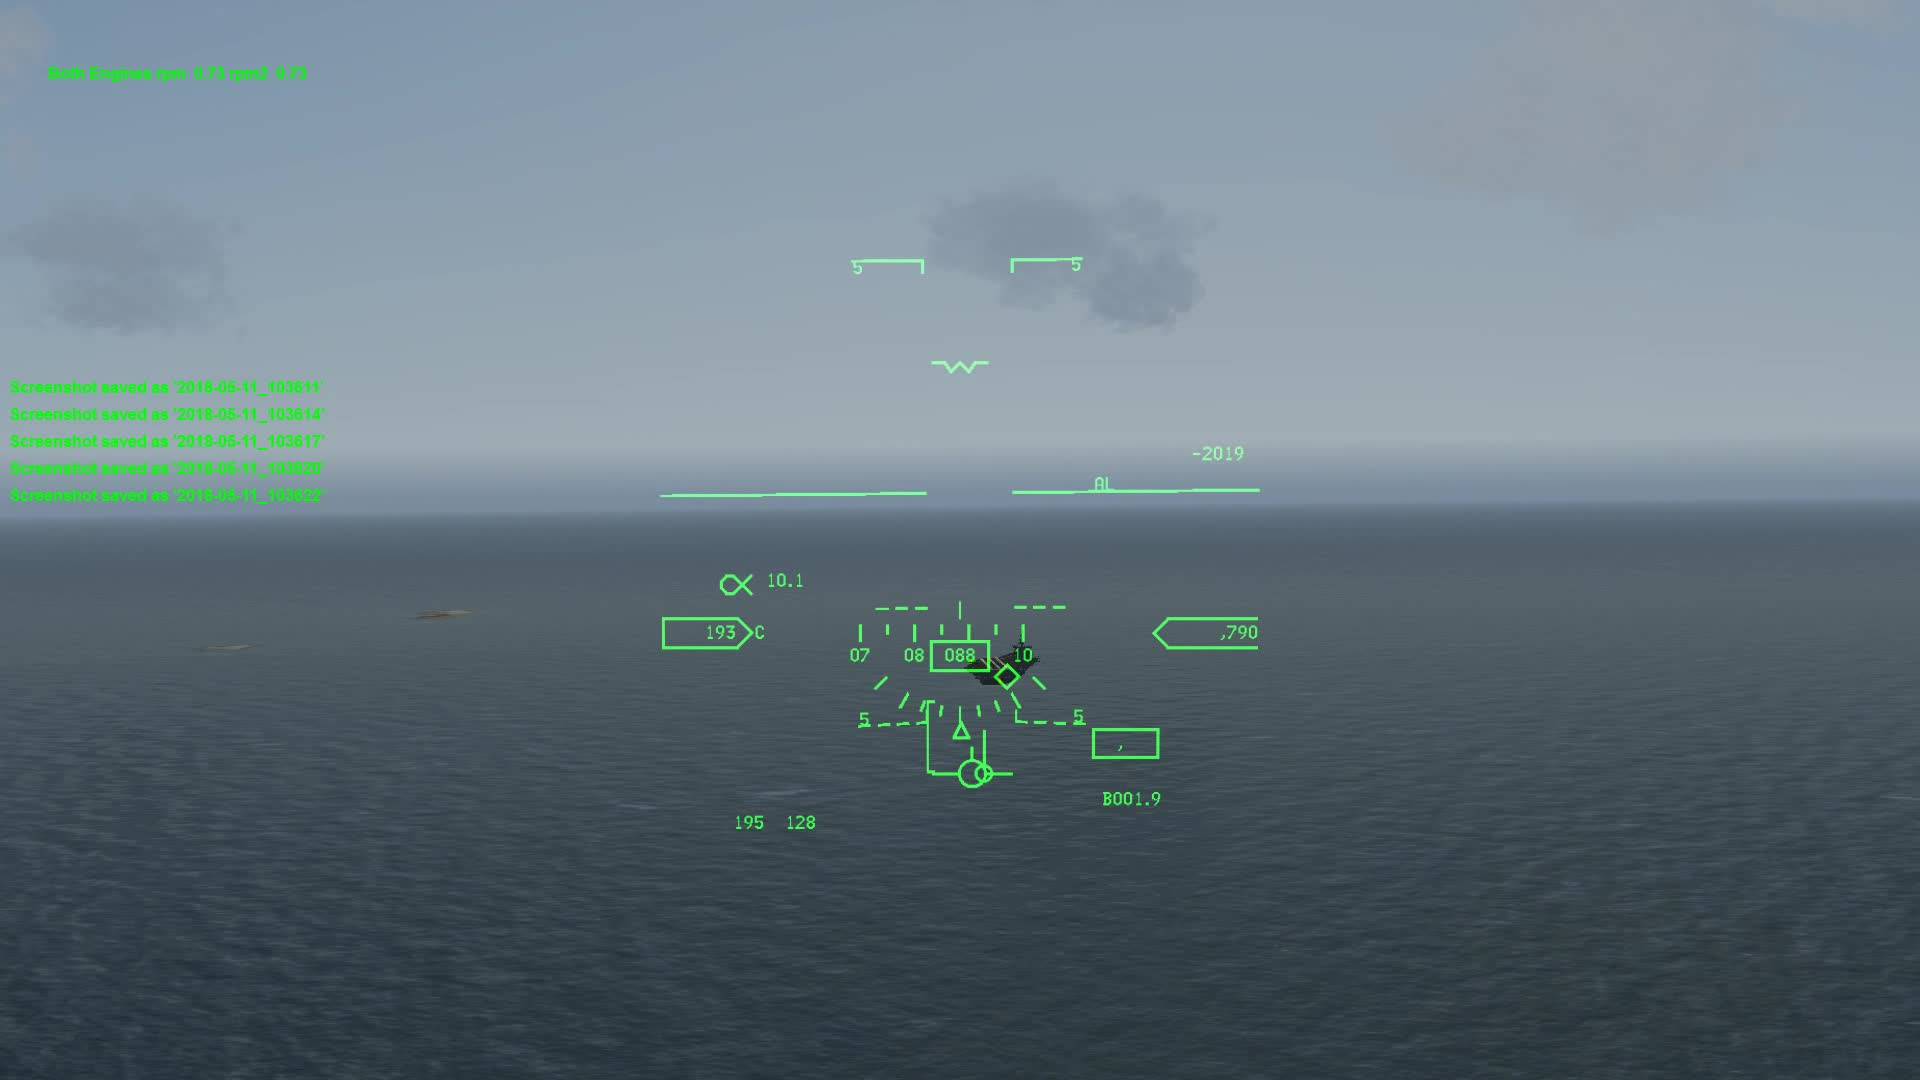speed vector: (928, 753, 1015, 793)
